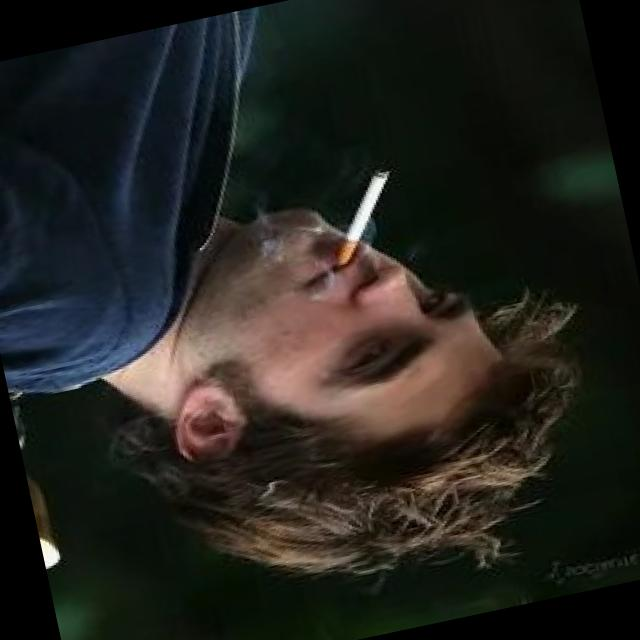smoke: (311, 163, 414, 271)
